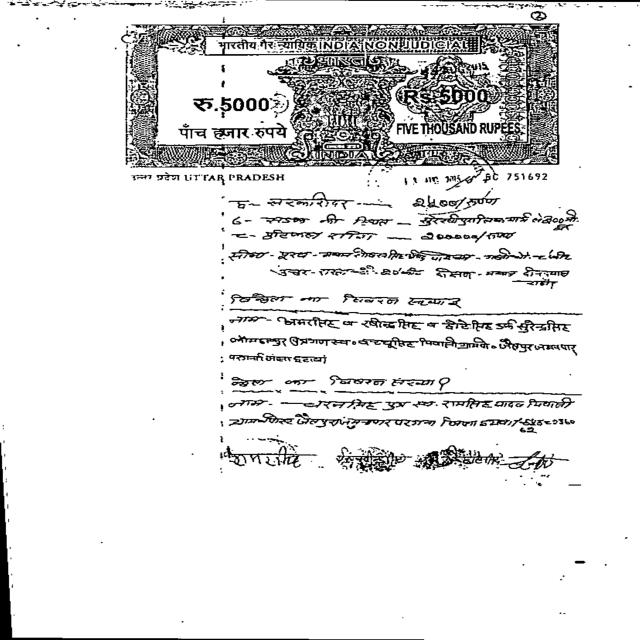afidivitstamp: (126, 27, 558, 166)
mohar: (366, 145, 500, 214)
